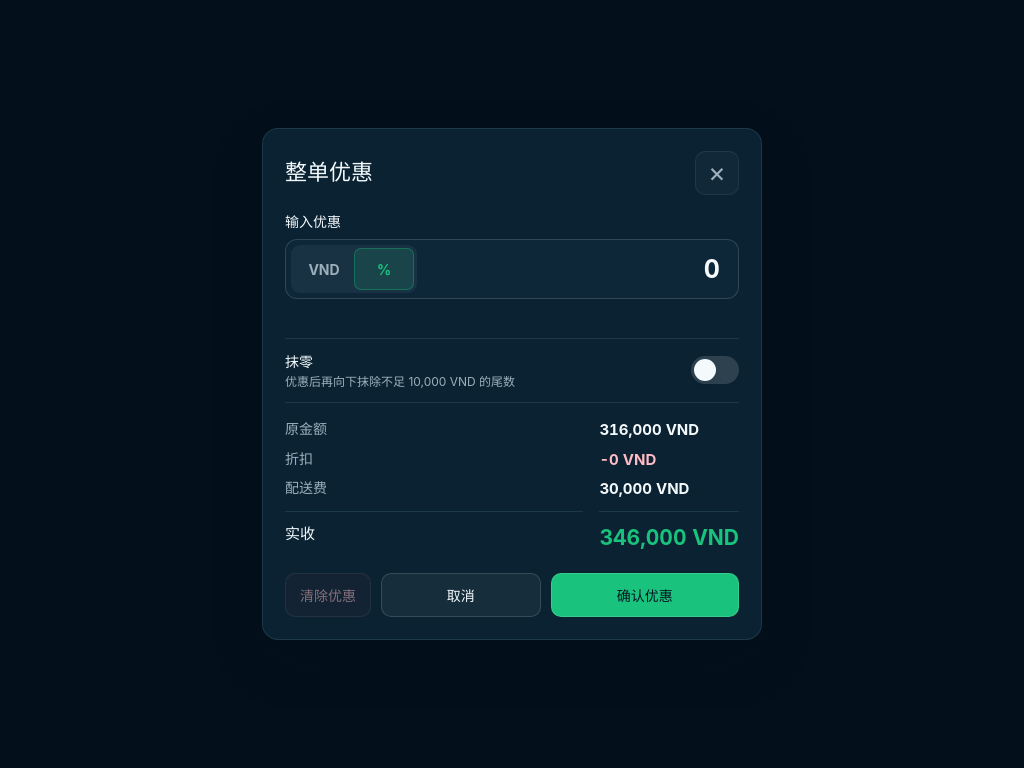
Test: SettlementAdjustmentDialog › rejects a fixed amount above the original item amount with a corrective message
Step 1. Click the button with test id "discount-mode-amount" → (324, 269), box [294,248,354,290]
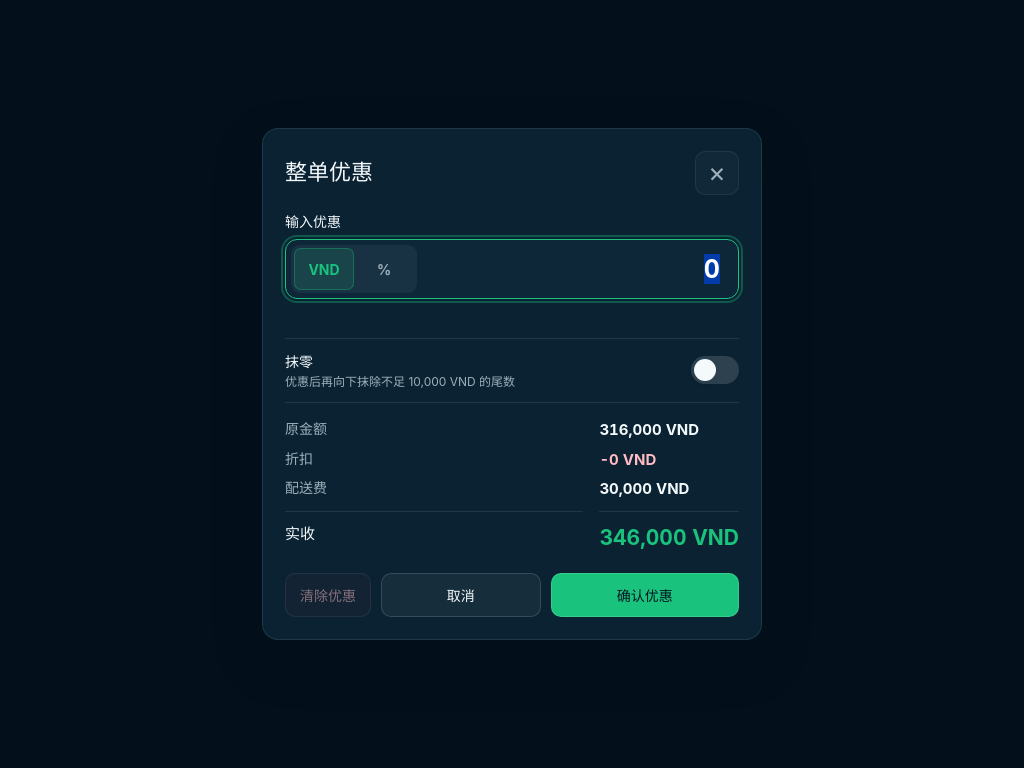
Step 2. Replace the text in the field with id "discount-value-input" with "316001" → (575, 269), box [417,246,733,292]
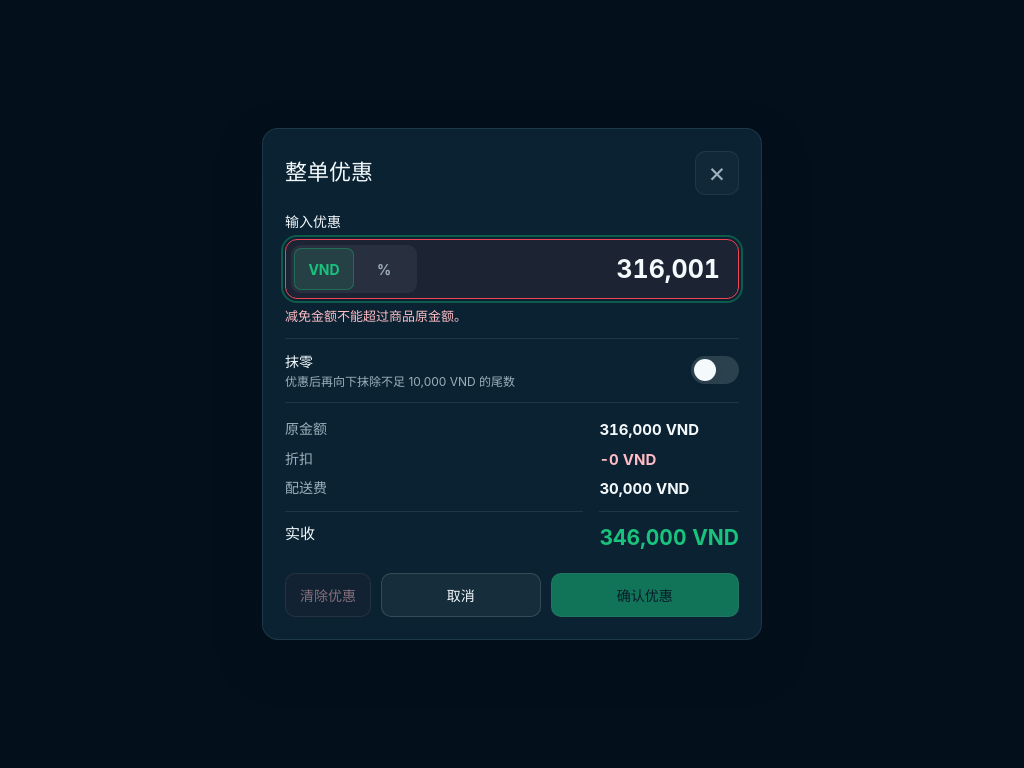
Expected: the text "减免金额不能超过商品原金额" is shown, [285,308,467,324]
Expected: the button with test id "discount-confirm" is disabled, [551,574,739,618]
